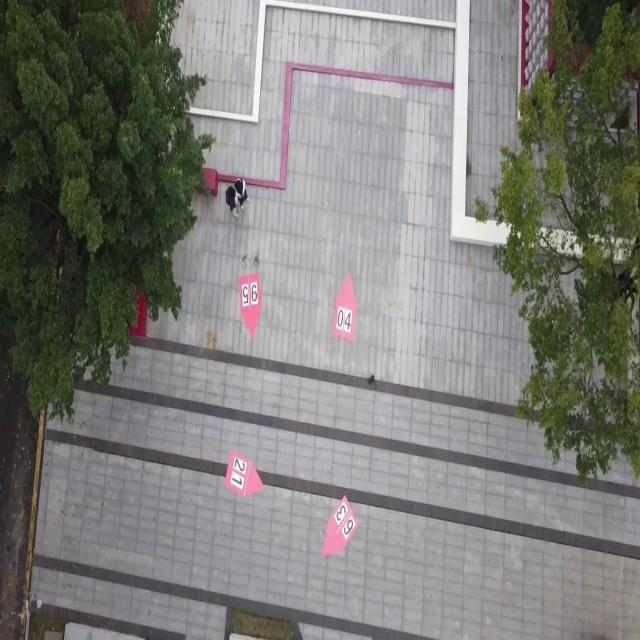-sign-: (329, 270, 364, 347), (234, 266, 268, 341), (225, 440, 266, 502), (323, 497, 360, 560)
